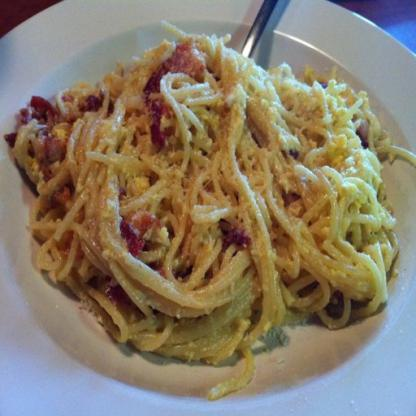pasta: (20, 30, 396, 382)
